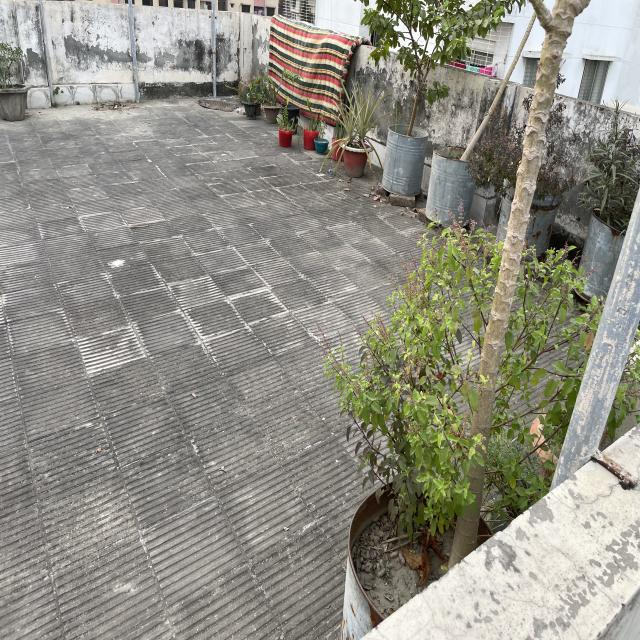Breeding Place: (382, 121, 422, 206), (335, 137, 367, 172), (262, 98, 279, 125), (242, 94, 258, 122), (284, 104, 301, 129), (280, 124, 294, 150), (305, 120, 315, 149), (314, 136, 329, 154)
